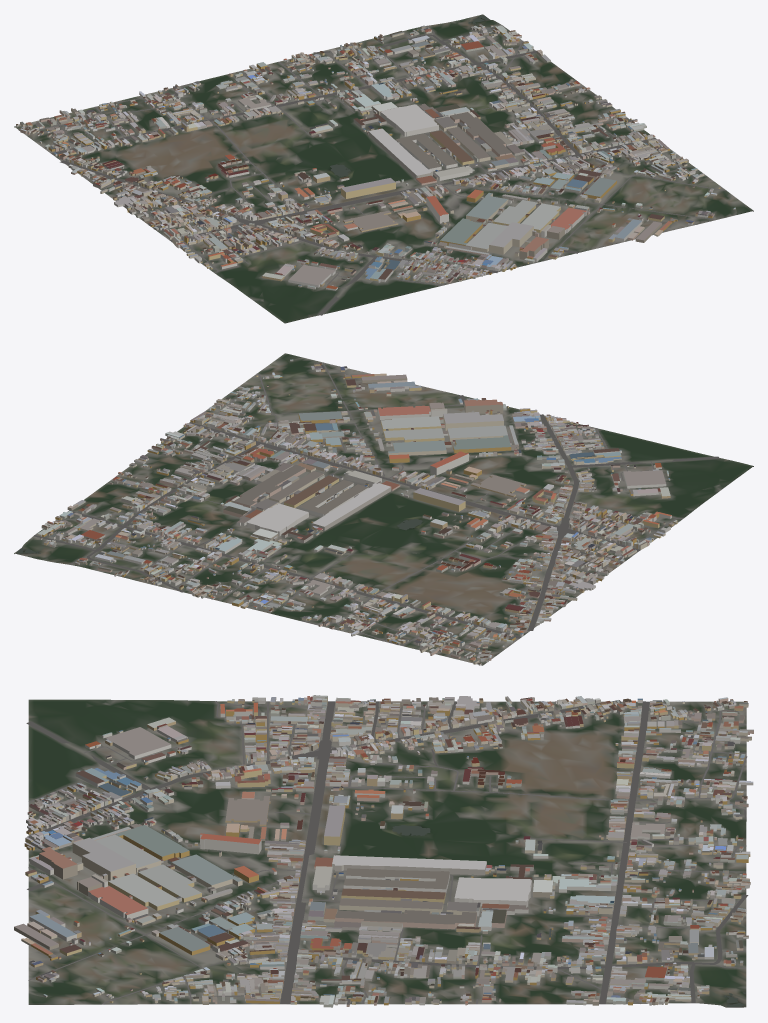
The picture shows the model from 3 angles, top to bottom: view 1: azimuth 30°, elevation 25°; view 2: azimuth 150°, elevation 25°; view 3: azimuth 270°, elevation 25°; orthographic projection. The views are drawn at different scales.
Parts seen in each view (by area): view 1: buildings, ground, roads; view 2: buildings, ground, roads; view 3: ground, buildings, roads.
Part boxes in pixels (bbox=[...]): buildings: bbox=[16, 24, 735, 290]; ground: bbox=[14, 14, 753, 323]; roads: bbox=[39, 25, 725, 315]; buildings: bbox=[37, 359, 677, 665]; ground: bbox=[14, 353, 753, 665]; roads: bbox=[33, 362, 719, 656]; ground: bbox=[28, 699, 746, 1007]; buildings: bbox=[14, 695, 753, 1007]; roads: bbox=[26, 700, 748, 1004].
Bounding box in the file's own units: 1429 × 34.76 × 1444.
